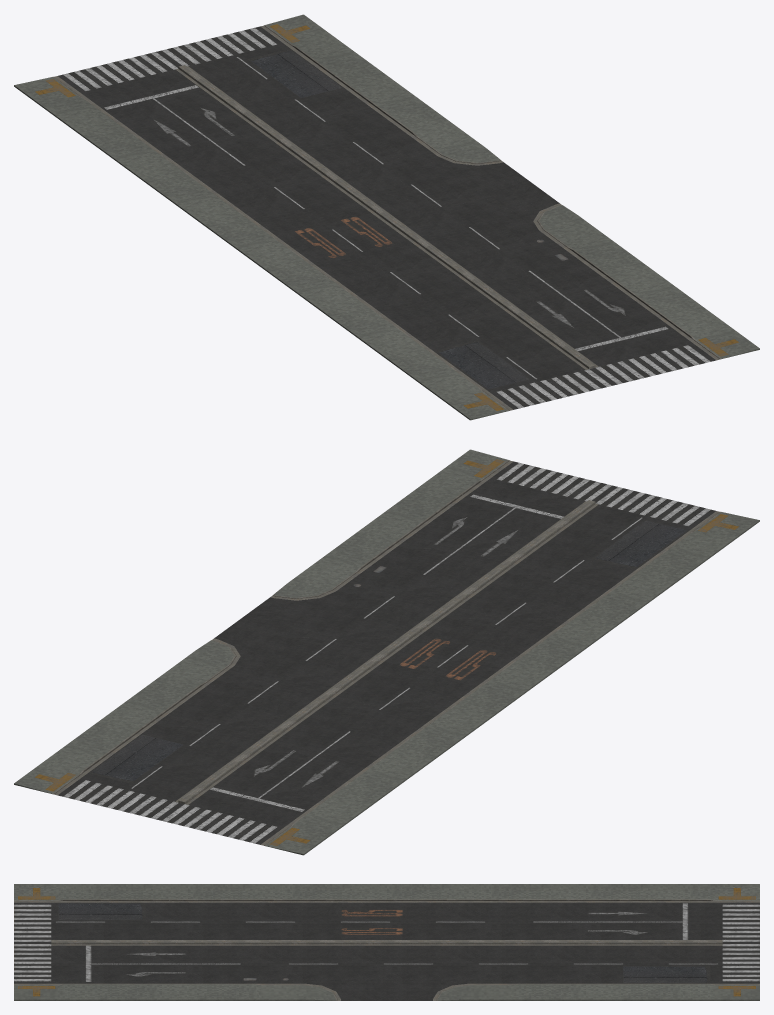
File: jctlowRoad22mC_d.fbx
The picture shows the model from 3 angles, top to bottom: view 1: azimuth 30°, elevation 25°; view 2: azimuth 150°, elevation 25°; view 3: azimuth 270°, elevation 25°; orthographic projection. The views are drawn at different scales.
Visible parts, largest first — view 1: jctlowRoad22mC_d; view 2: jctlowRoad22mC_d; view 3: jctlowRoad22mC_d.
Part boxes in pixels (x1=…): jctlowRoad22mC_d: x1=14, y1=14, x2=759, y2=420; jctlowRoad22mC_d: x1=14, y1=449, x2=759, y2=855; jctlowRoad22mC_d: x1=14, y1=884, x2=759, y2=1000.
Size of the model in its own units: 2200 by 15 by 6000.
4 materials, 4 textured.
